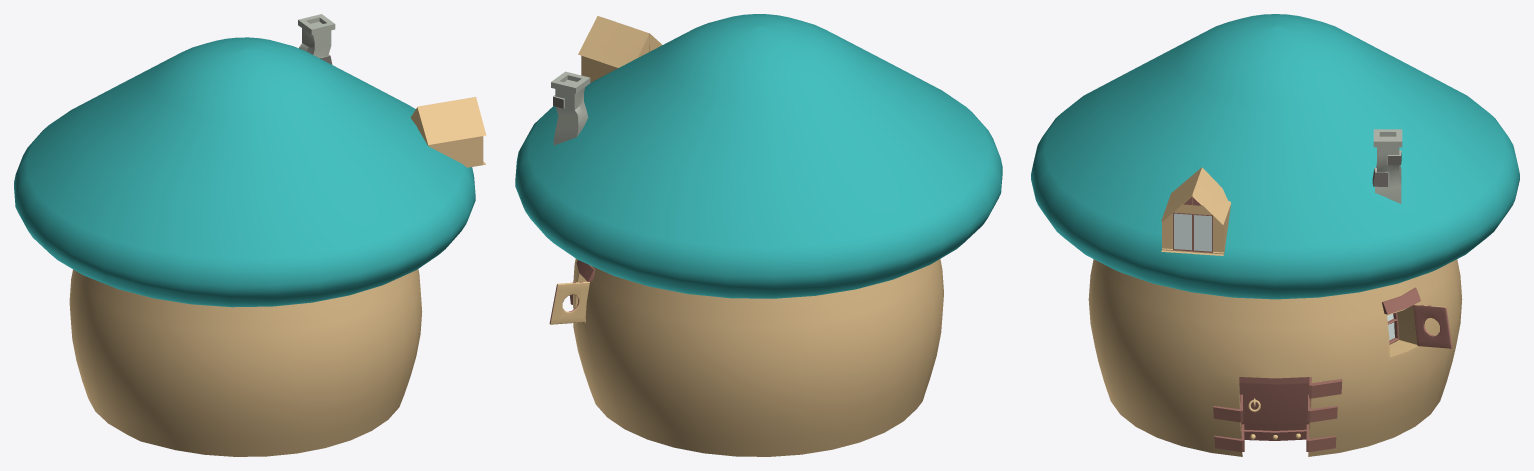
File: hut3.fbx
The picture shows the model from 3 angles, left to right: view 1: azimuth 30°, elevation 25°; view 2: azimuth 150°, elevation 25°; view 3: azimuth 270°, elevation 25°; orthographic projection. The views are drawn at different scales.
Parts seen in each view (by area): view 1: Cylinder, Cylinder.004, Cube; view 2: Cylinder, Cylinder.004, Cube, Cylinder.002; view 3: Cylinder, Cylinder.004, Cube, Cylinder.002, Cylinder.006, Cylinder.005, Cylinder.001.
Part boxes in pixels (left/top/right/bottom): Cylinder: left=14, top=37, right=475, bottom=456; Cylinder.004: left=410, top=97, right=486, bottom=167; Cube: left=298, top=14, right=335, bottom=58; Cylinder: left=515, top=14, right=1002, bottom=456; Cylinder.004: left=578, top=16, right=662, bottom=82; Cube: left=551, top=71, right=590, bottom=145; Cylinder.002: left=549, top=281, right=589, bottom=324; Cylinder: left=1031, top=14, right=1519, bottom=456; Cylinder.004: left=1161, top=167, right=1231, bottom=255; Cube: left=1373, top=129, right=1402, bottom=203; Cylinder.002: left=1413, top=304, right=1452, bottom=348; Cylinder.006: left=1213, top=394, right=1337, bottom=422; Cylinder.005: left=1214, top=424, right=1336, bottom=452; Cylinder.001: left=1382, top=287, right=1420, bottom=314.
Bounding box in the file's own units: 313 × 255 × 313.
